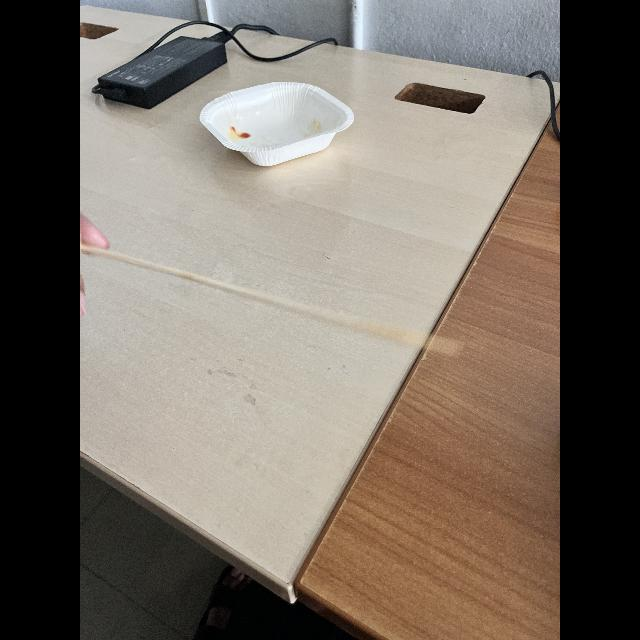cardboard_bowl: (194, 72, 354, 182)
stick: (80, 255, 468, 358)
